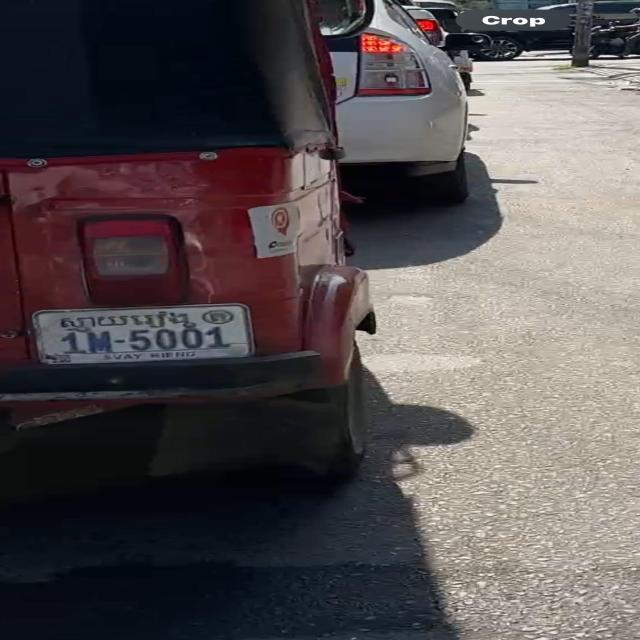Svay_Rieng: (53, 309, 195, 331)
